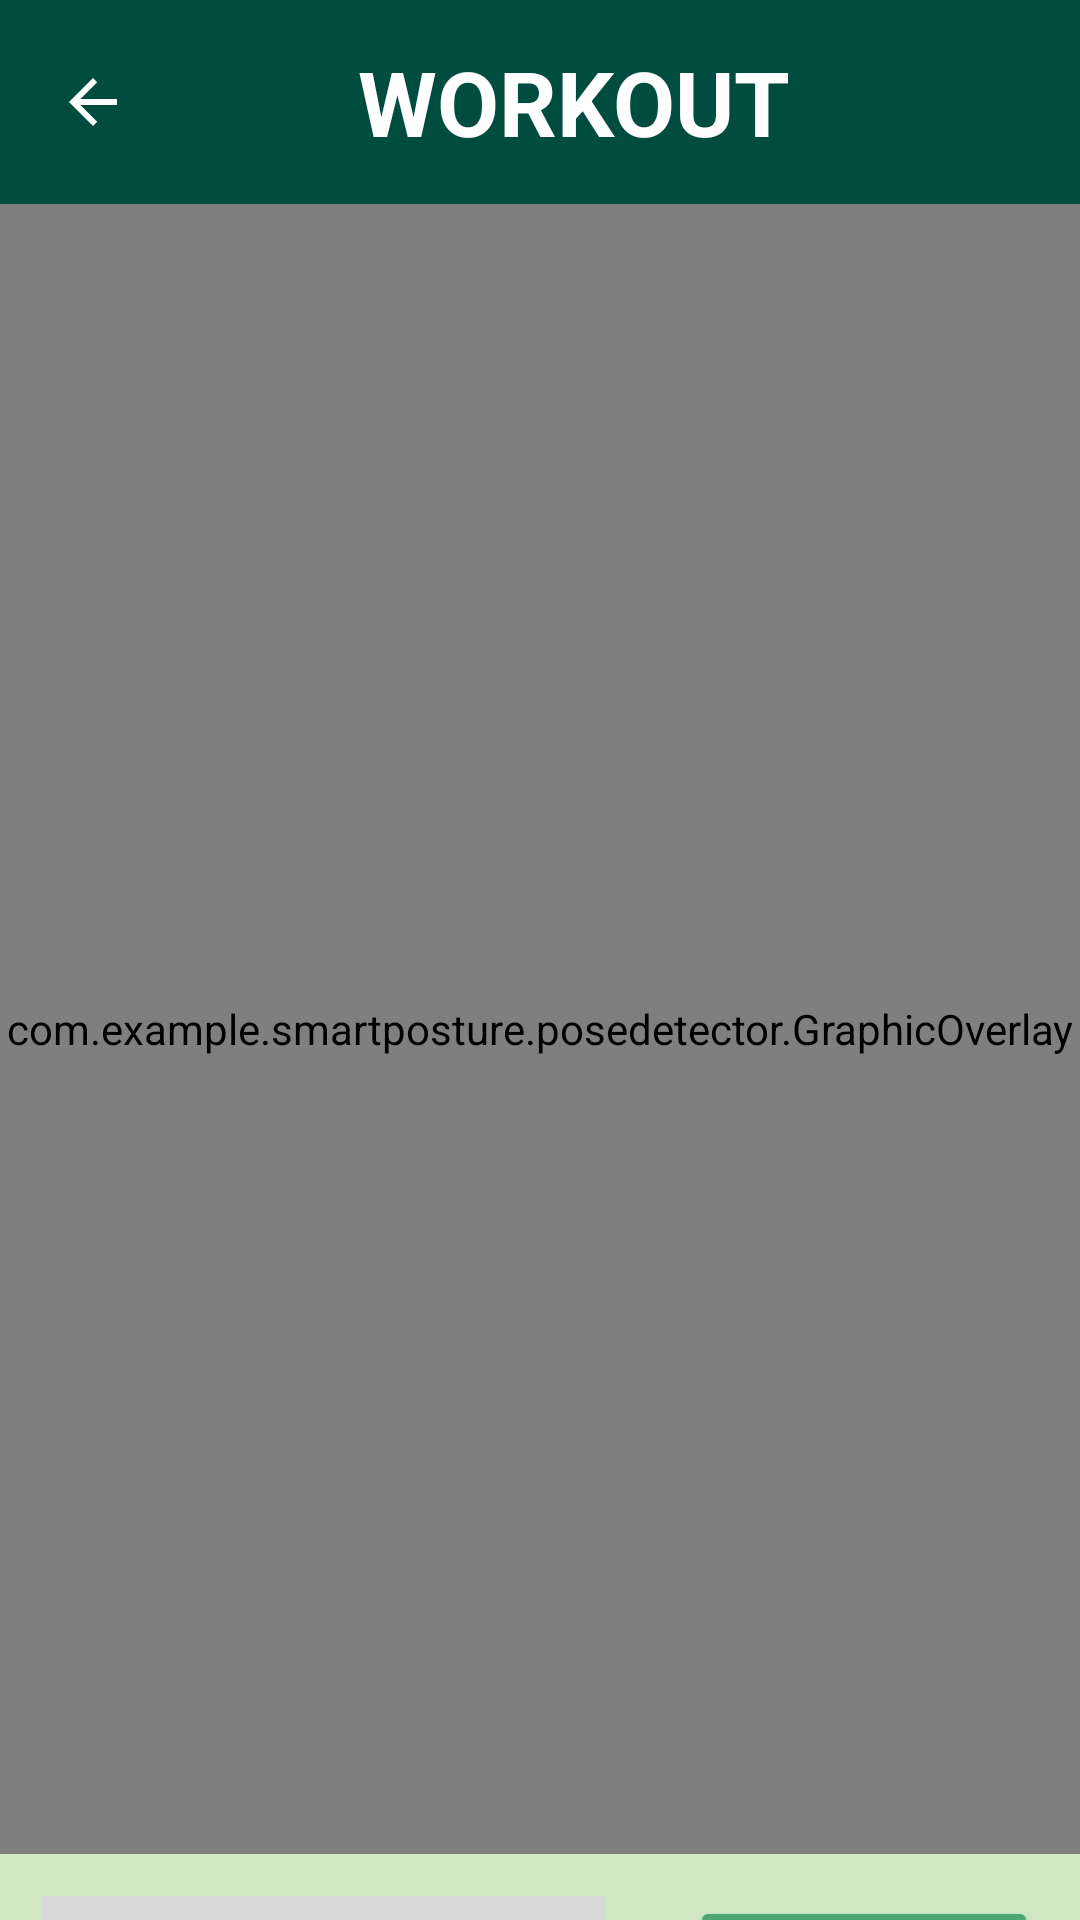

Icon bounding boxes for this 1080w x 1920h phone screenshot, format (x1, y1, x2, y2):
Back: (69, 78, 117, 126)
